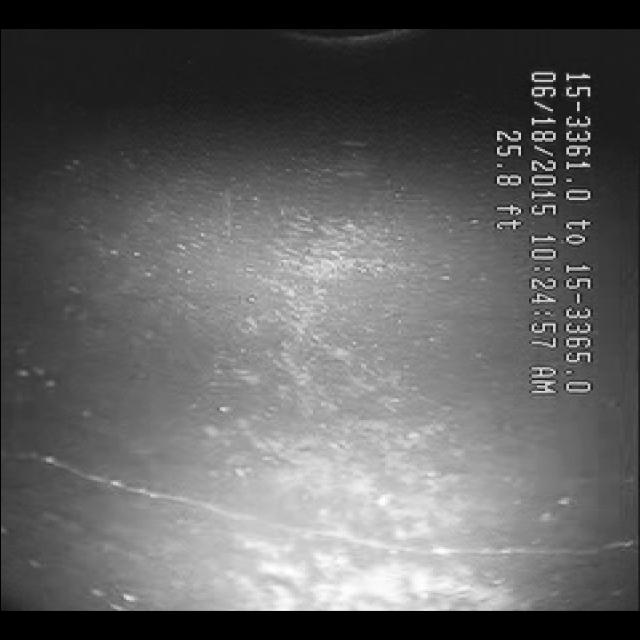Crack: (19, 438, 639, 588)
